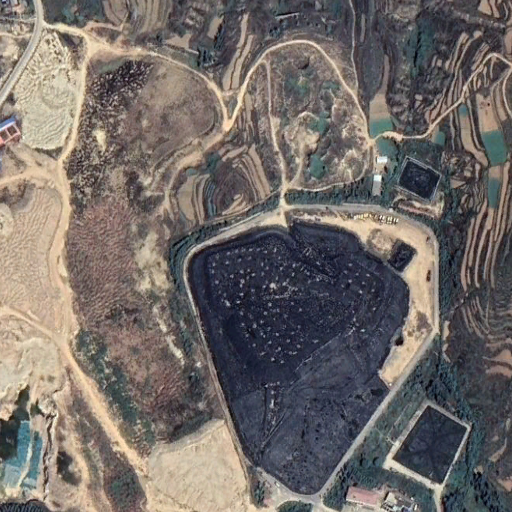lf: (183, 205, 433, 492)
